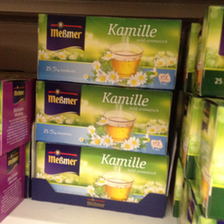tea: (36, 13, 182, 89), (33, 80, 172, 155), (34, 141, 169, 202)
